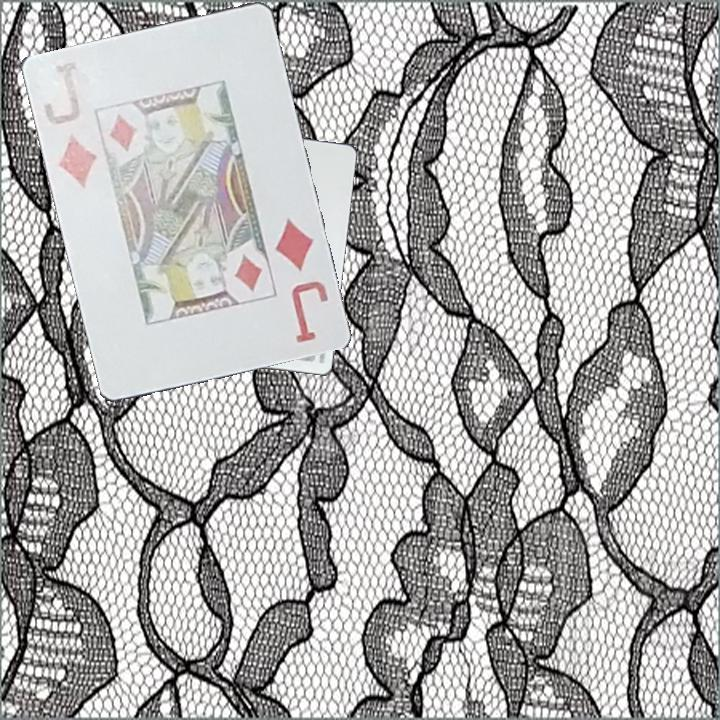Jd: (270, 214, 331, 346), (39, 57, 99, 190)
